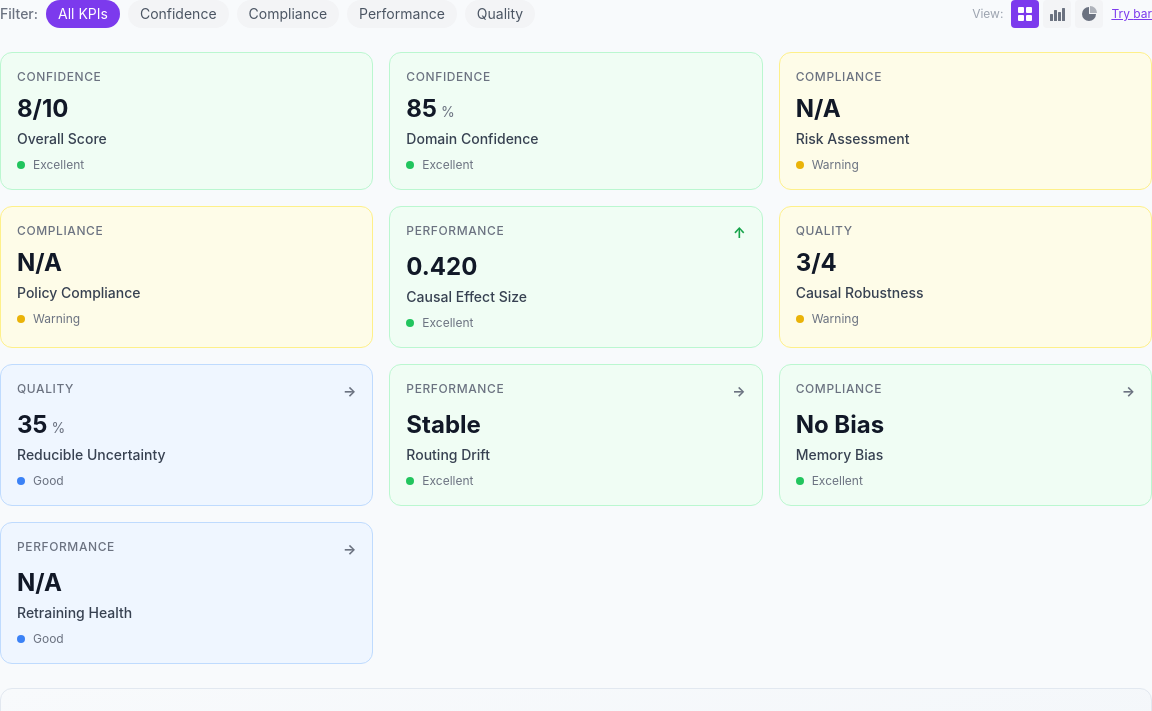
it: ExecutiveKPIPanel › Chart type switching (Phase 6A) › switches to pie chart view when pie icon is clicked
Click the button with test id "chart-type-pie".
click(1089, 14)  # box [1075, 0, 1103, 28]
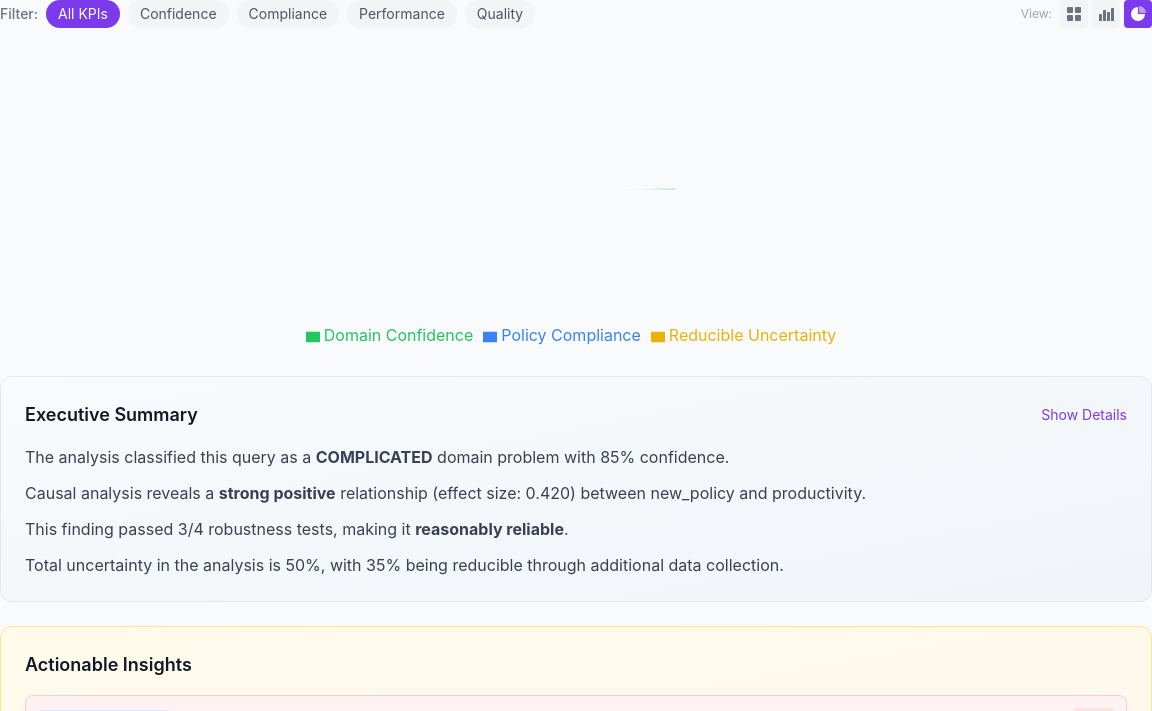
Expected: the element with test id "pie-chart-view" is shown, [0, 52, 1151, 352]
